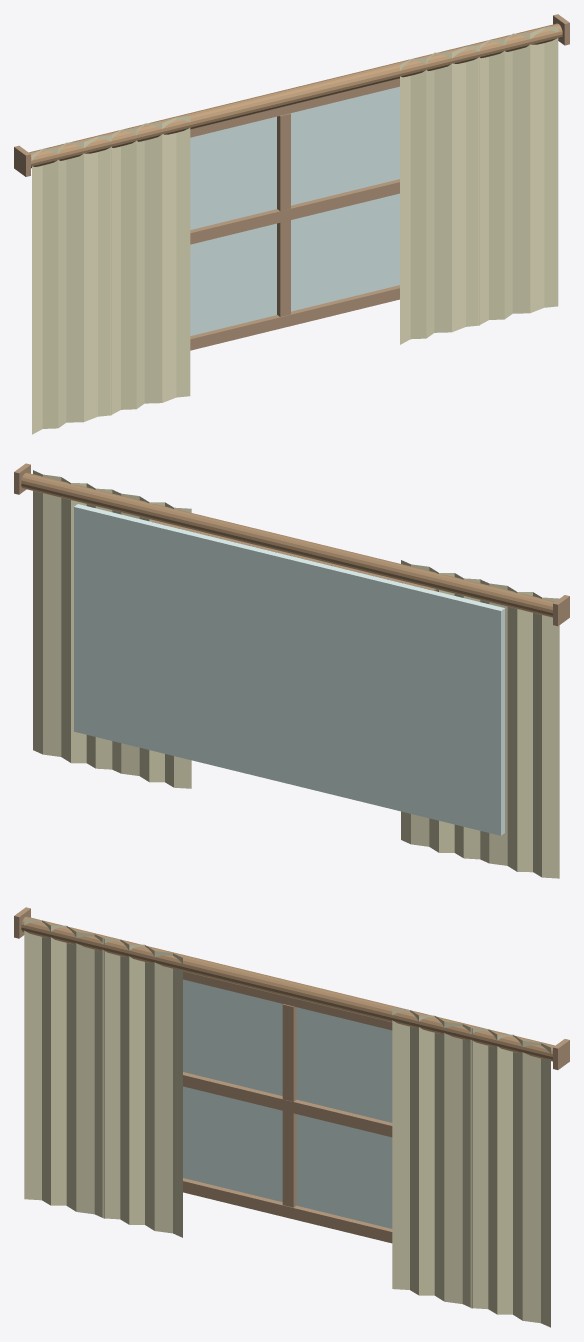
Rendered from window.fbx.
3 renders of one model, top to bottom at view 1: azimuth 30°, elevation 25°; view 2: azimuth 150°, elevation 25°; view 3: azimuth 330°, elevation 25°, orthographic.
Visible parts, largest first — view 1: Curtans, Glass, Frame, Rod, RodEnds; view 2: Glass, Curtans, Rod, Frame, RodEnds; view 3: Curtans, Glass, Frame, Rod, RodEnds.
Part boxes in pixels (bbox=[...]): Curtans: bbox=[32, 26, 558, 434]; Glass: bbox=[190, 86, 399, 335]; Frame: bbox=[190, 78, 399, 350]; Rod: bbox=[29, 23, 562, 168]; RodEnds: bbox=[14, 14, 569, 176]; Glass: bbox=[74, 504, 504, 835]; Curtans: bbox=[33, 470, 559, 878]; Rod: bbox=[21, 472, 554, 617]; Frame: bbox=[152, 520, 436, 591]; RodEnds: bbox=[14, 463, 569, 626]; Curtans: bbox=[24, 919, 550, 1327]; Glass: bbox=[183, 979, 392, 1228]; Frame: bbox=[183, 971, 392, 1243]; Rod: bbox=[21, 916, 554, 1061]; RodEnds: bbox=[14, 907, 569, 1069].
Size of the model in its own units: 360 by 179 by 16.32.
